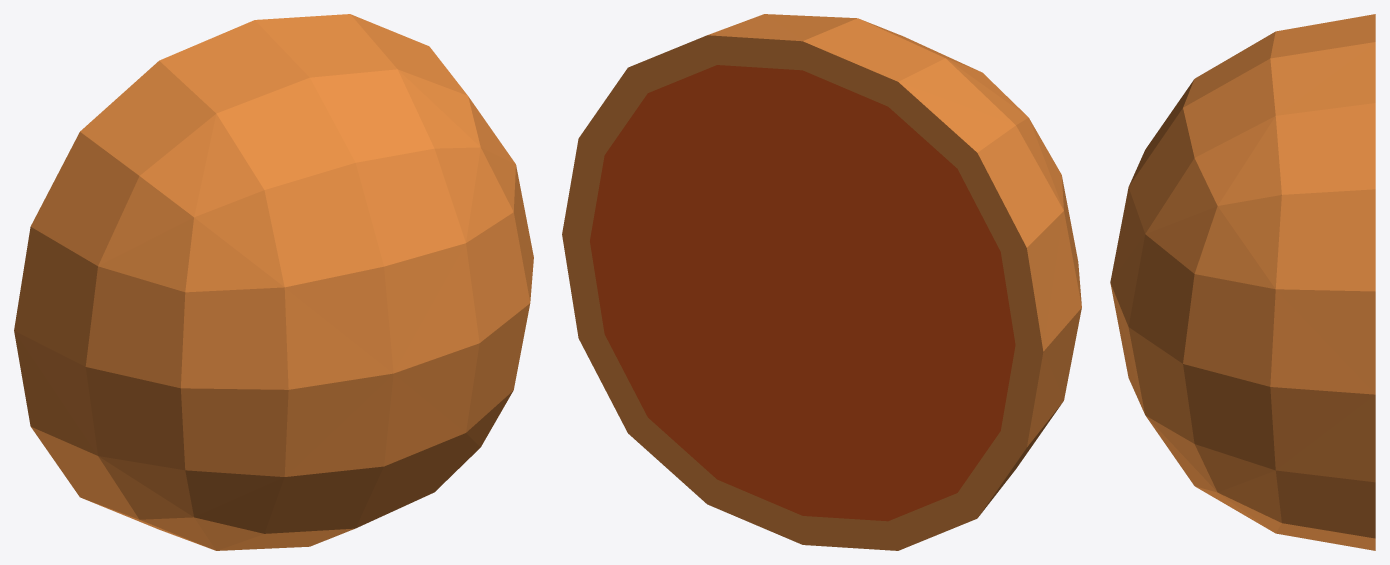
File: Orange_cut2.fbx
3 renders of one model, left to right at view 1: azimuth 30°, elevation 25°; view 2: azimuth 150°, elevation 25°; view 3: azimuth 270°, elevation 25°, orthographic. The views are drawn at different scales.
Visible parts, largest first — view 1: Orange_cut2; view 2: Orange_cut2; view 3: Orange_cut2.
Part boxes in pixels (x1,y1,x2,y2): Orange_cut2: (14,14,533,550); Orange_cut2: (562,14,1081,550); Orange_cut2: (1110,14,1375,550).
Size of the model in its own units: 168 by 168 by 83.95.
